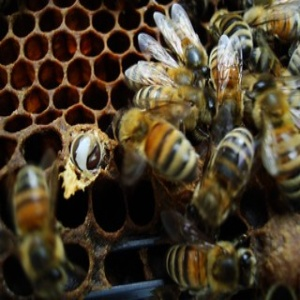bee: (113, 108, 197, 186), (166, 228, 256, 296), (16, 166, 64, 290), (214, 130, 249, 219), (250, 5, 300, 36)
